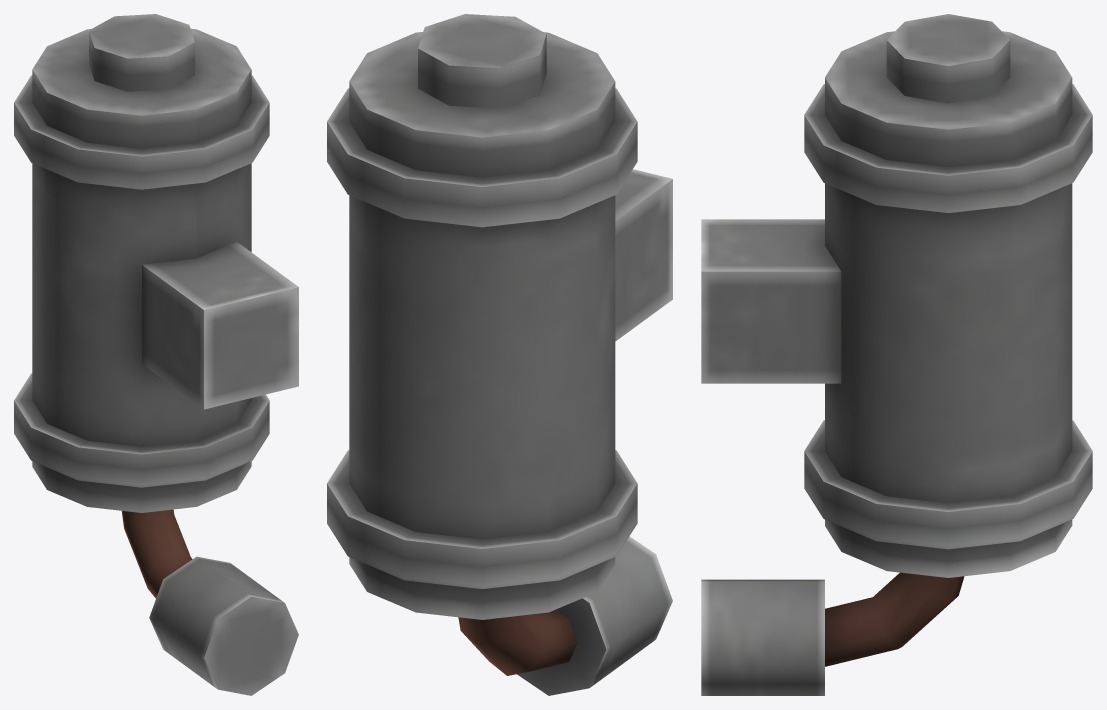
Rendered from 4mv_battery_srf_1_compact.obj.
3 views of the same model, side by side, from view 1: azimuth 30°, elevation 25°; view 2: azimuth 150°, elevation 25°; view 3: azimuth 270°, elevation 25° (orthographic). The views are drawn at different scales.
Visible parts, largest first — view 1: mesh1; view 2: mesh1; view 3: mesh1.
Part boxes in pixels (<box>): mesh1: <box>14,14,298,695</box>; mesh1: <box>327,14,672,695</box>; mesh1: <box>701,14,1092,695</box>.
Bounding box in the file's own units: 0.0875 × 0.2187 × 0.1187.
Materials: 1 (1 with a texture image).
